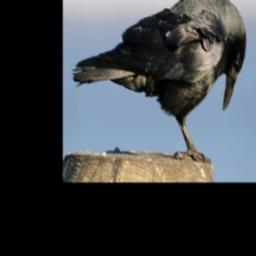Crow: (71, 0, 247, 177)
